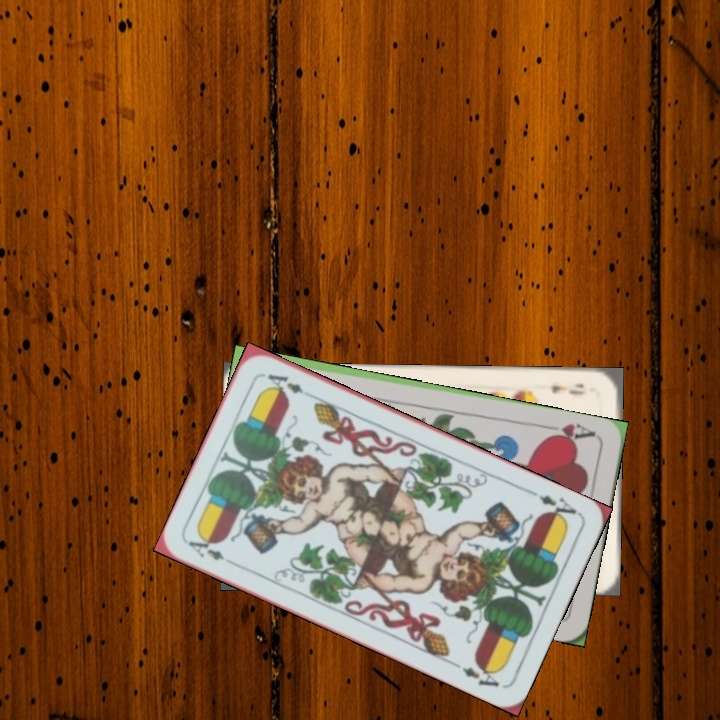E9: (547, 380, 588, 398)
EA: (534, 490, 582, 525), (184, 532, 227, 563)
HA: (540, 419, 598, 447)
